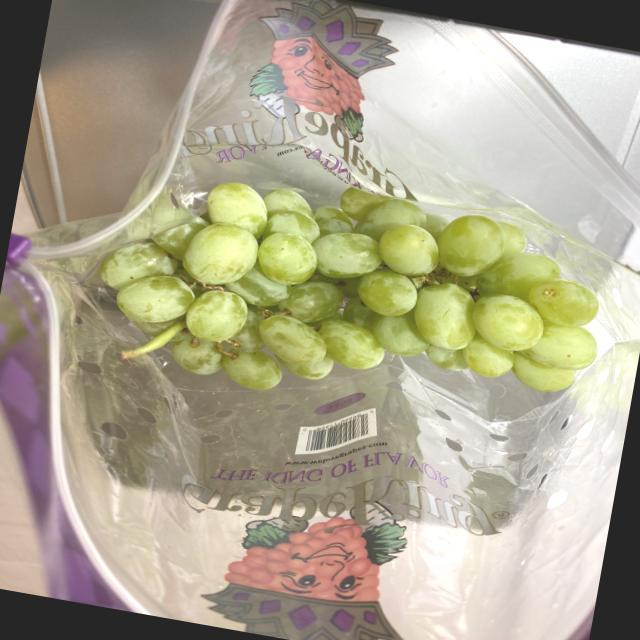grapes: (77, 155, 617, 444)
